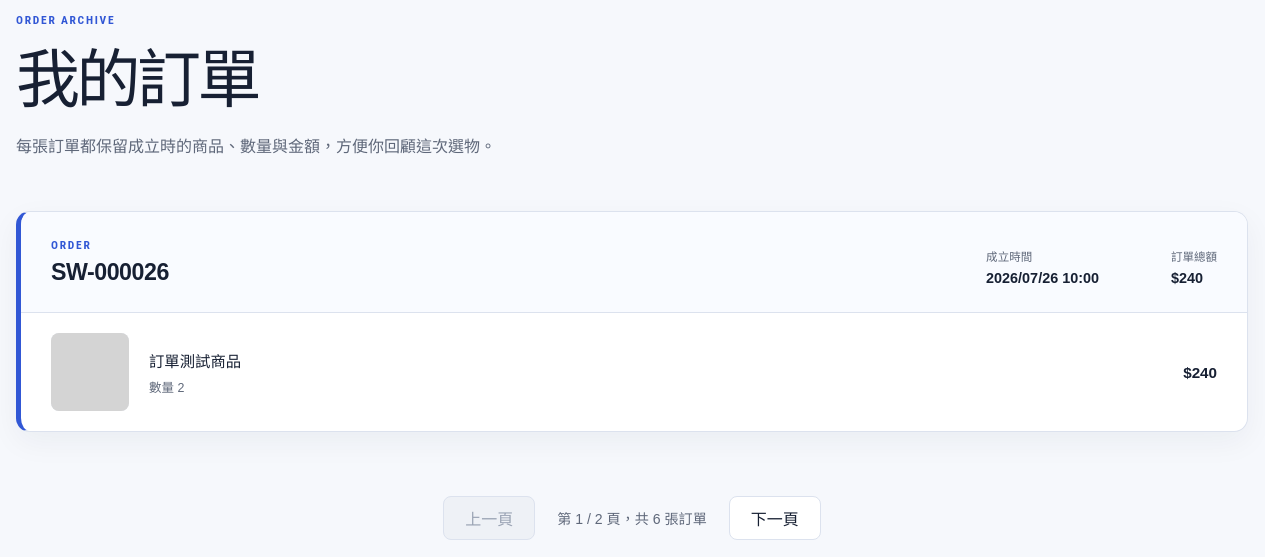
Test: OrdersPage › 切換下一頁時使用正確 offset 並更新分頁文字
The image size is (1265, 557).
Expected: the text "第 1 / 2 頁，共 6 張訂單" is shown, top-left (557, 508), bottom-right (707, 528)
Click the button "下一頁": (775, 518) top-left (729, 496), bottom-right (821, 540)
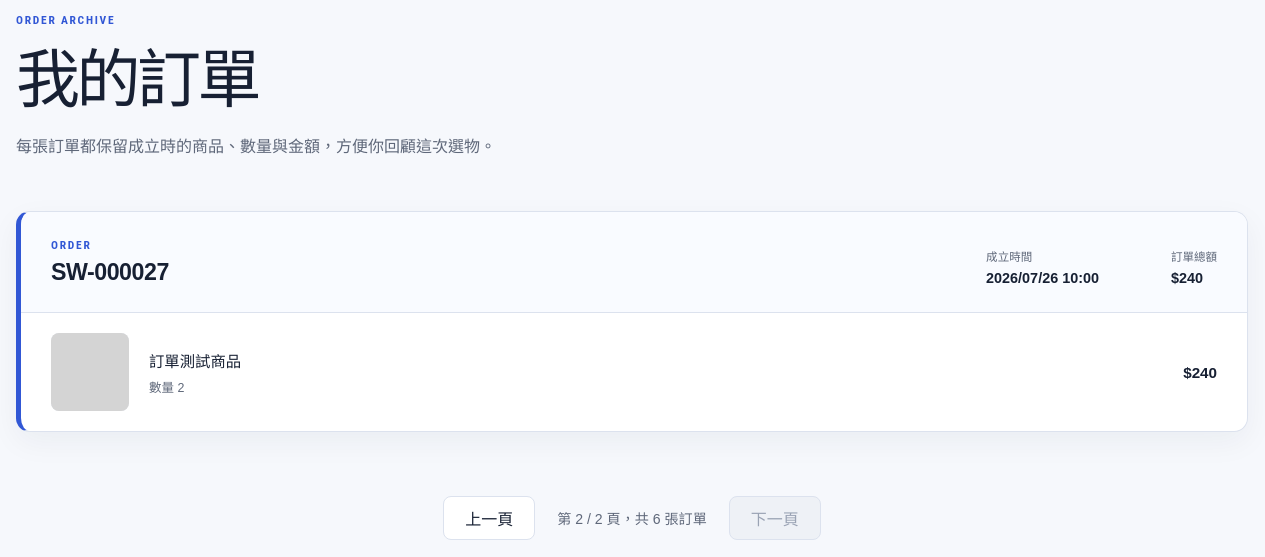
Result: the heading "SW-000027" is shown at top-left (51, 260), bottom-right (169, 286)
Result: the text "第 2 / 2 頁，共 6 張訂單" is shown at top-left (557, 508), bottom-right (707, 528)
